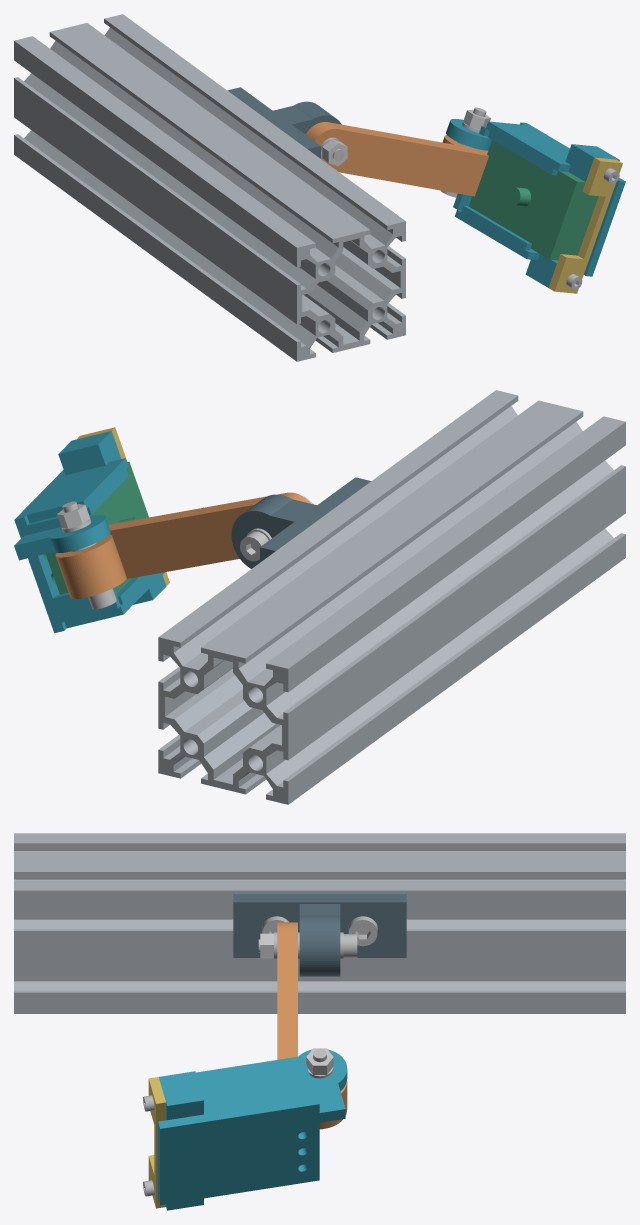
The model's file is COMPLETE_ASSEMBLY_V003.glb.
The picture shows the model from 3 angles, top to bottom: view 1: azimuth 30°, elevation 25°; view 2: azimuth 150°, elevation 25°; view 3: azimuth 270°, elevation 25°; orthographic projection. The views are drawn at different scales.
Visible parts, largest first — view 1: 4040_reference_extrusion, ESP32_CAM_MB_nominal_envelope, V003_anti_inversion_cradle, V001_60mm_yaw_arm, V003_bolted_top_retainer, V001_mount_base_4040_slot_10; view 2: 4040_reference_extrusion, V003_anti_inversion_cradle, V001_60mm_yaw_arm, V001_mount_base_4040_slot_10, ESP32_CAM_MB_nominal_envelope, M4x25_yaw_socket_bolt; view 3: 4040_reference_extrusion, V003_anti_inversion_cradle, V001_mount_base_4040_slot_10, V001_60mm_yaw_arm, V003_bolted_top_retainer, M5x8_socket_screw_1.
Part boxes in pixels (<box>): 4040_reference_extrusion: <box>14,14,405,361</box>; ESP32_CAM_MB_nominal_envelope: <box>469,140,598,260</box>; V003_anti_inversion_cradle: <box>446,119,625,287</box>; V001_60mm_yaw_arm: <box>305,122,488,196</box>; V003_bolted_top_retainer: <box>548,157,622,293</box>; V001_mount_base_4040_slot_10: <box>227,87,341,158</box>; 4040_reference_extrusion: <box>158,390,625,804</box>; V003_anti_inversion_cradle: <box>14,431,166,633</box>; V001_60mm_yaw_arm: <box>55,492,310,598</box>; V001_mount_base_4040_slot_10: <box>231,477,371,568</box>; ESP32_CAM_MB_nominal_envelope: <box>45,461,148,594</box>; M4x25_yaw_socket_bolt: <box>240,531,268,561</box>; 4040_reference_extrusion: <box>14,833,625,1013</box>; V003_anti_inversion_cradle: <box>158,1049,347,1210</box>; V001_mount_base_4040_slot_10: <box>233,894,406,976</box>; V001_60mm_yaw_arm: <box>277,922,347,1128</box>; V003_bolted_top_retainer: <box>148,1077,165,1208</box>; M5x8_socket_screw_1: <box>348,916,377,946</box>.
Bounding box in the file's own units: 146 × 62.9 × 180.
